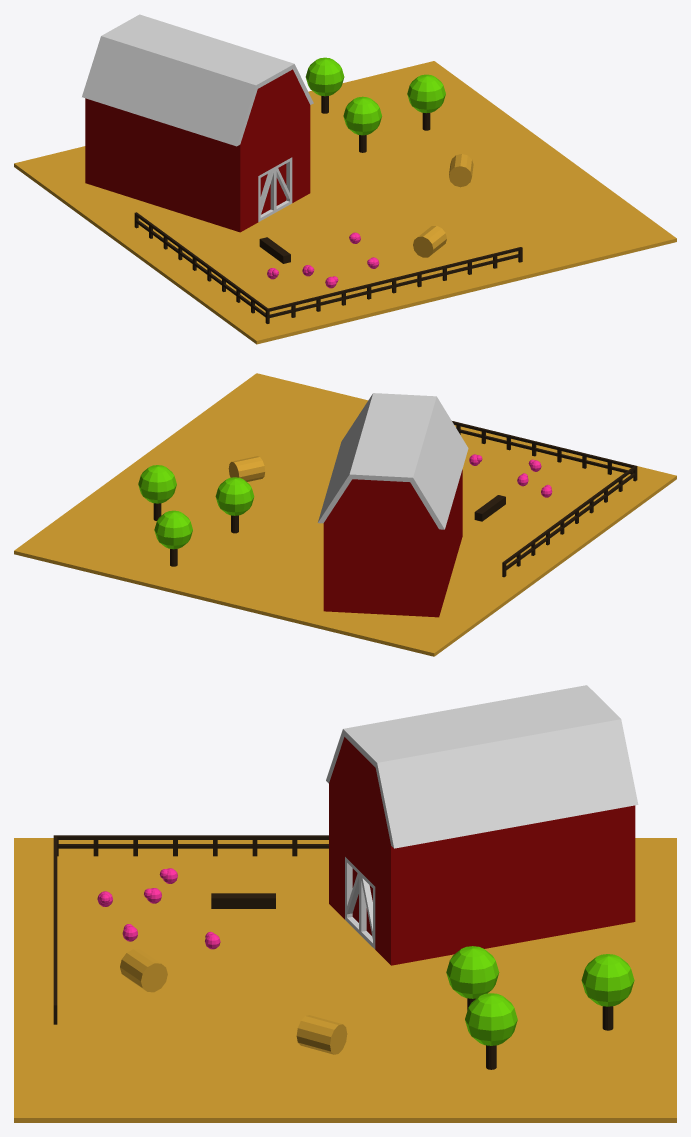
Rendered from barn_c.FBX.
The picture shows the model from 3 angles, top to bottom: view 1: azimuth 30°, elevation 25°; view 2: azimuth 150°, elevation 25°; view 3: azimuth 270°, elevation 25°; orthographic projection. The views are drawn at different scales.
Parts seen in each view (by area): view 1: Layer:pasture, Layer:barn, Layer:white, Layer:wood, Layer:greenery, Layer:rowhouse1; view 2: Layer:pasture, Layer:barn, Layer:white, Layer:wood, Layer:greenery, Layer:rowhouse1; view 3: Layer:pasture, Layer:barn, Layer:white, Layer:greenery, Layer:wood, Layer:rowhouse1.
Part boxes in pixels (box(x1,y1,x2,y2)): Layer:pasture: box(14, 61, 676, 344); Layer:barn: box(85, 69, 310, 232); Layer:white: box(82, 14, 313, 221); Layer:wood: box(134, 96, 522, 323); Layer:greenery: box(305, 57, 445, 135); Layer:rowhouse1: box(267, 232, 379, 288); Layer:pasture: box(14, 373, 676, 656); Layer:barn: box(323, 469, 462, 617); Layer:white: box(318, 393, 468, 529); Layer:wood: box(153, 421, 637, 577); Layer:greenery: box(138, 465, 254, 549); Layer:rowhouse1: box(469, 454, 552, 497); Layer:pasture: box(14, 838, 676, 1122); Layer:barn: box(329, 737, 635, 965); Layer:white: box(326, 685, 638, 949); Layer:greenery: box(446, 946, 634, 1045); Layer:wood: box(53, 835, 613, 1069); Layer:rowhouse1: box(97, 868, 220, 949).
Size of the model in its own units: 250 by 80.58 by 250.
